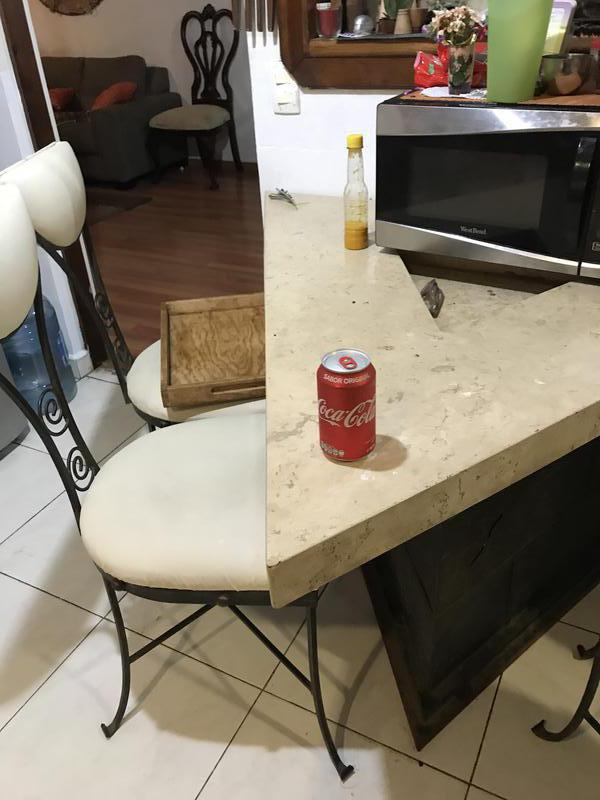coca_cola: (314, 349, 380, 462)
